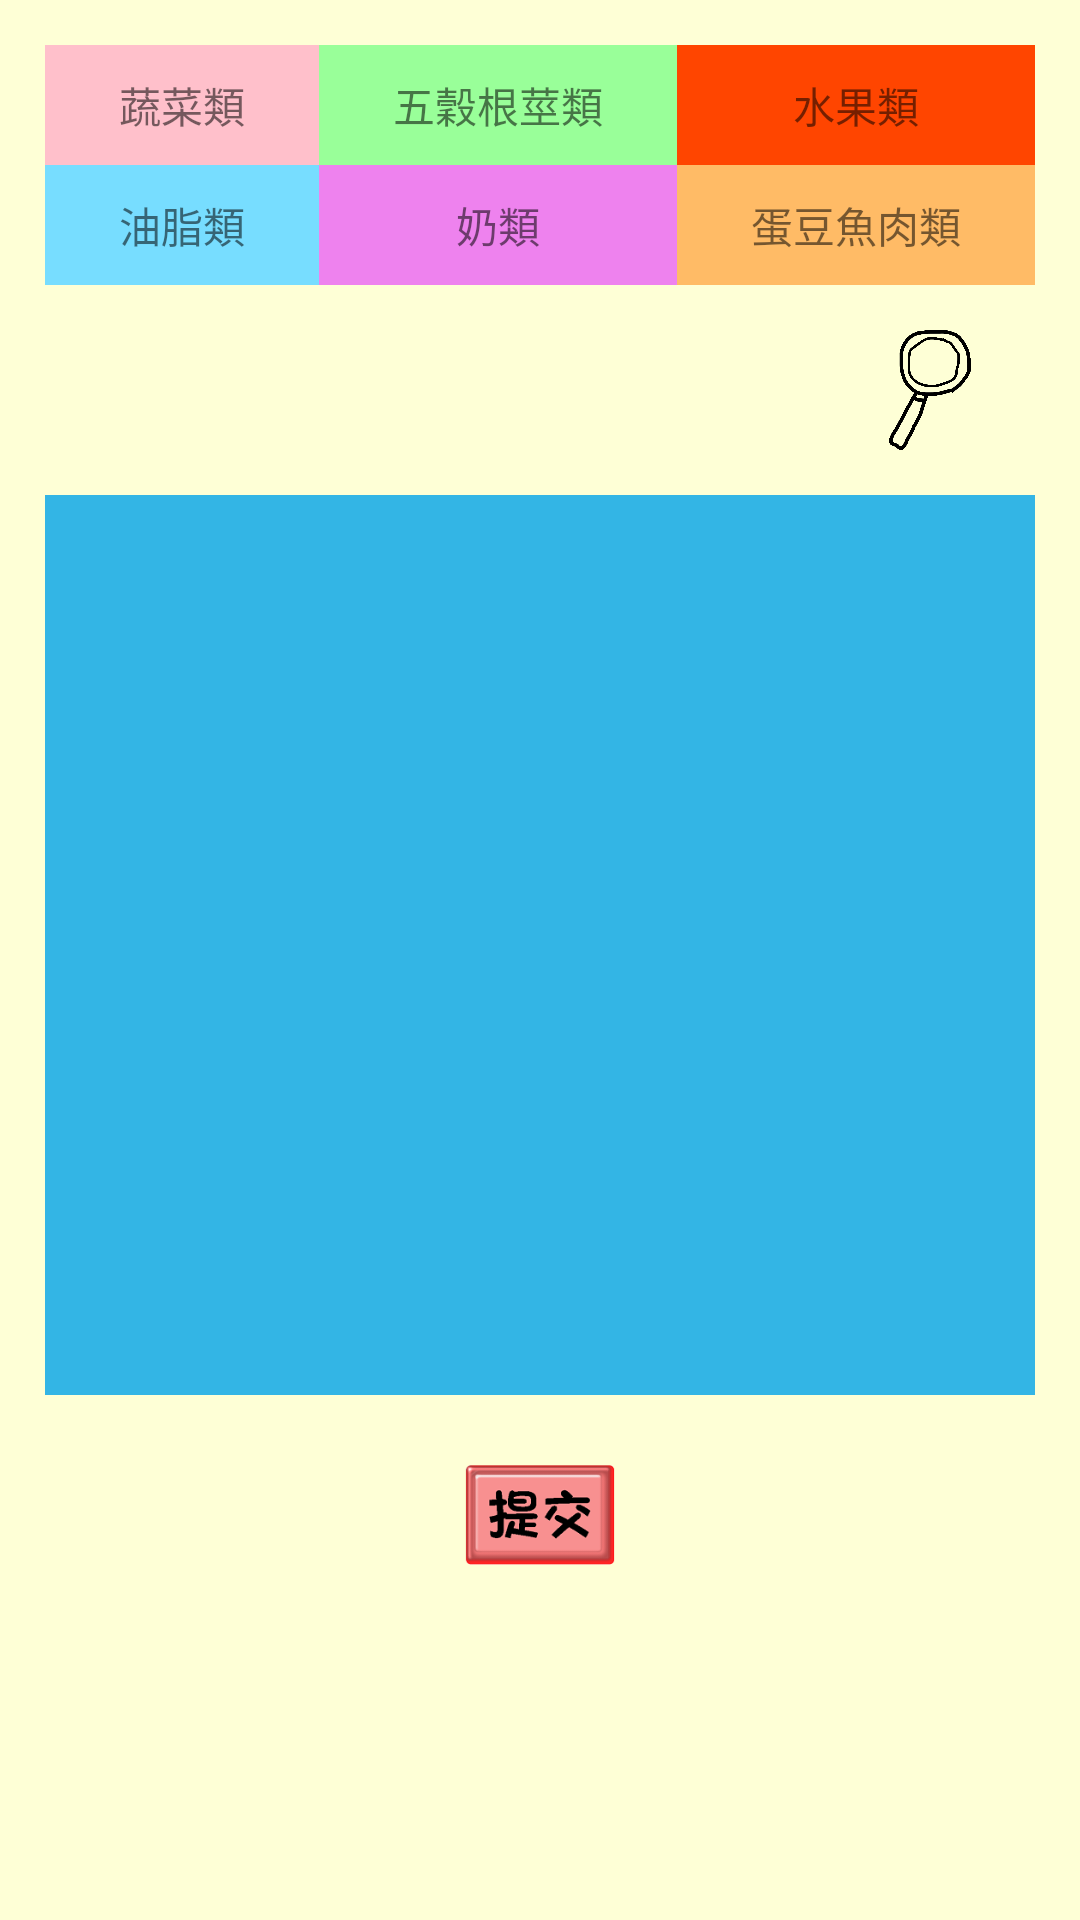

Point at icon controls on the screen. Image size 1080px×1920px, points as [x,y].
query: [930,390]
